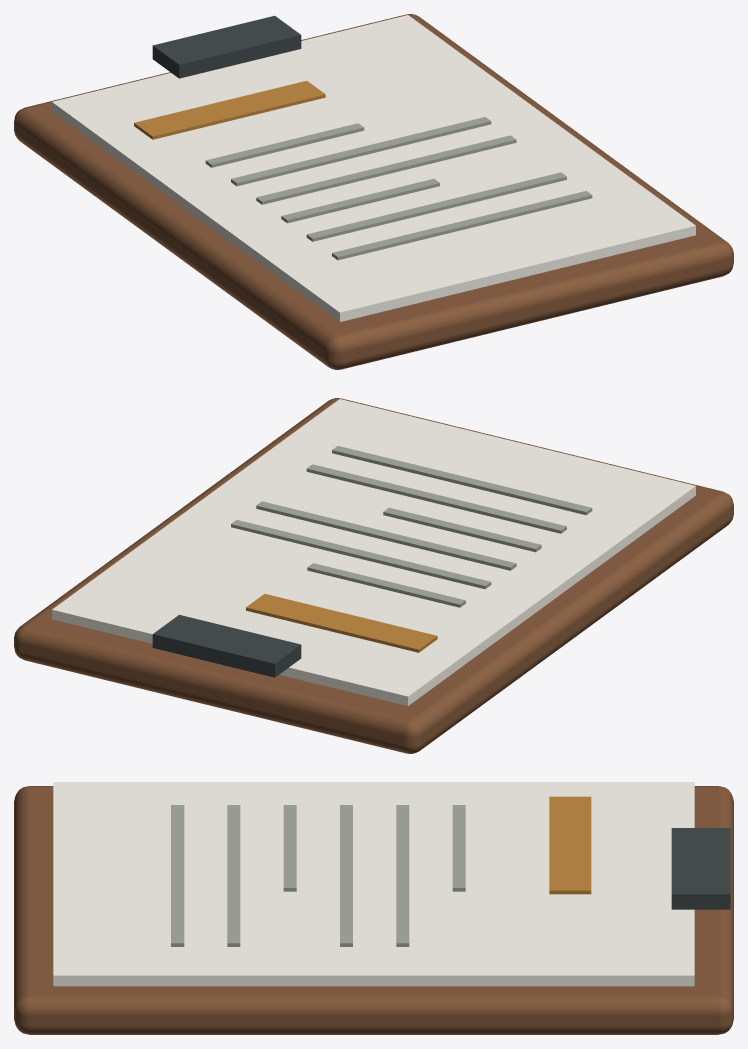
File: resume.glb
The picture shows the model from 3 angles, top to bottom: view 1: azimuth 30°, elevation 25°; view 2: azimuth 150°, elevation 25°; view 3: azimuth 270°, elevation 25°; orthographic projection. The views are drawn at different scales.
Bounding box in the file's own units: 0.4 × 0.0575 × 0.55.
